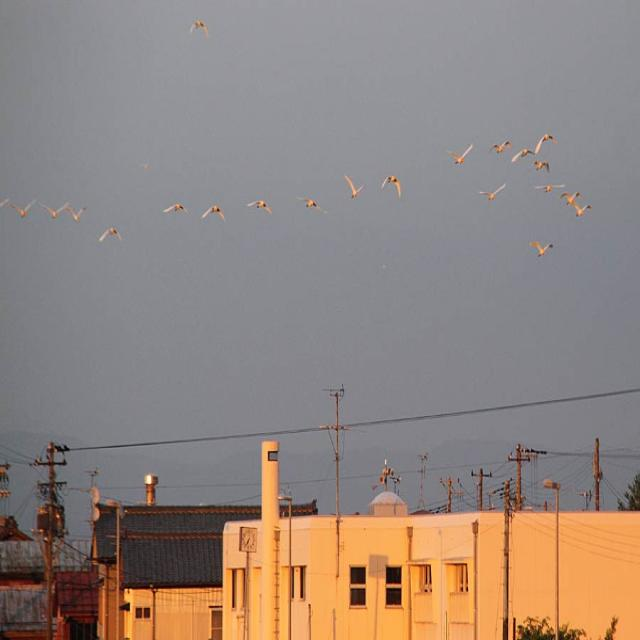bird: (46, 202, 87, 226), (523, 131, 560, 157), (556, 192, 590, 219), (477, 182, 509, 205), (3, 197, 32, 222), (345, 174, 368, 203), (245, 196, 273, 218), (448, 144, 473, 168), (97, 224, 124, 246), (528, 239, 556, 260), (382, 174, 404, 200), (198, 203, 227, 222), (162, 200, 188, 218), (300, 195, 324, 214), (487, 138, 511, 156), (190, 18, 209, 40), (509, 148, 531, 165), (537, 182, 560, 196), (531, 161, 552, 174)
